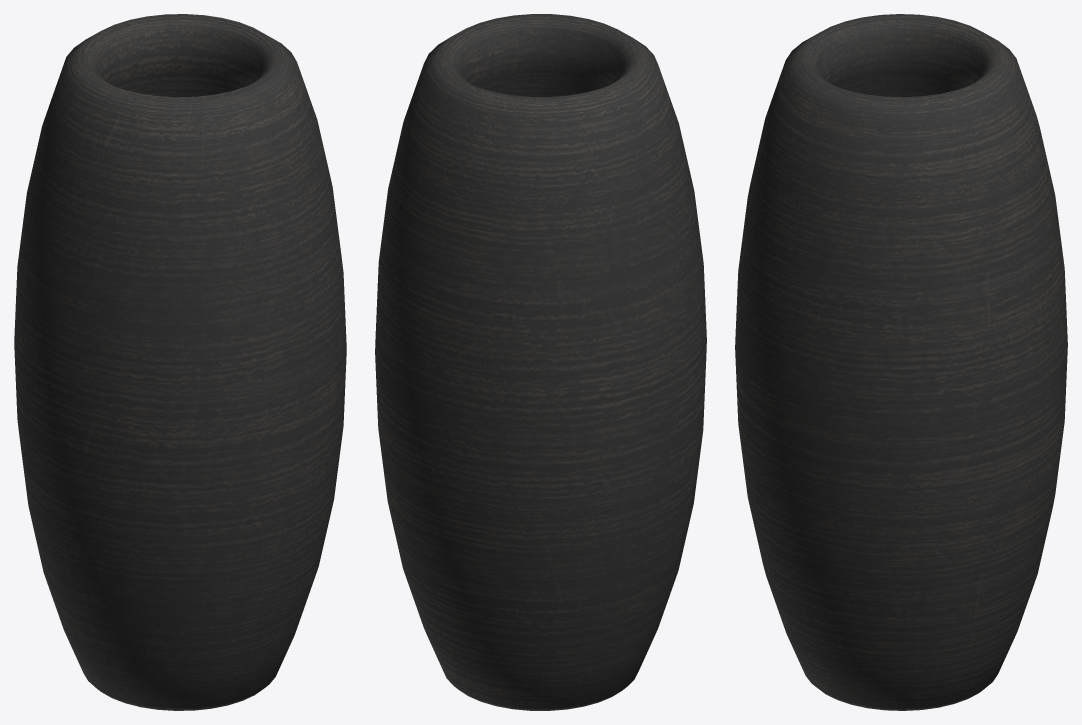
Rendered from Vase_01.fbx.
The picture shows the model from 3 angles, left to right: view 1: azimuth 30°, elevation 25°; view 2: azimuth 150°, elevation 25°; view 3: azimuth 270°, elevation 25°; orthographic projection.
Visible parts, largest first — view 1: Vase_01; view 2: Vase_01; view 3: Vase_01.
Boxes of the visible parts, left/top/right/bottom form: Vase_01: left=14, top=14, right=346, bottom=710; Vase_01: left=375, top=14, right=706, bottom=710; Vase_01: left=735, top=14, right=1067, bottom=710.
Bounding box in the file's own units: 29.79 × 60.85 × 29.79.
